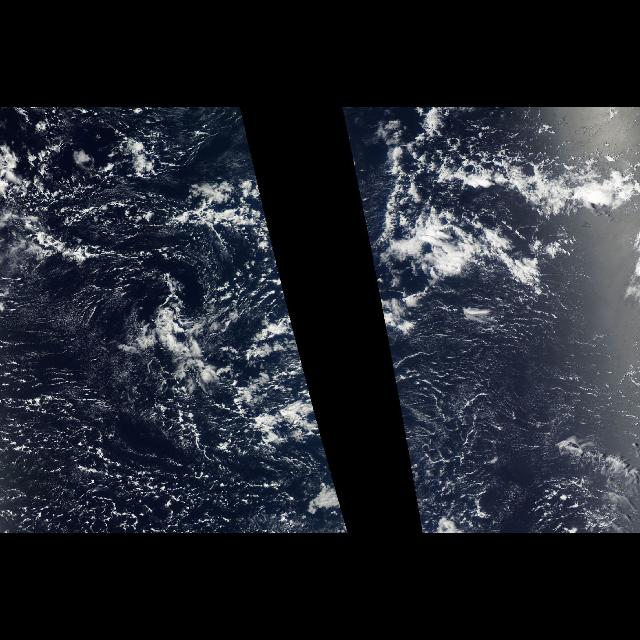Fish: (424, 128, 636, 230)
Gravel: (9, 387, 289, 533)
Sugar: (420, 276, 596, 474)
